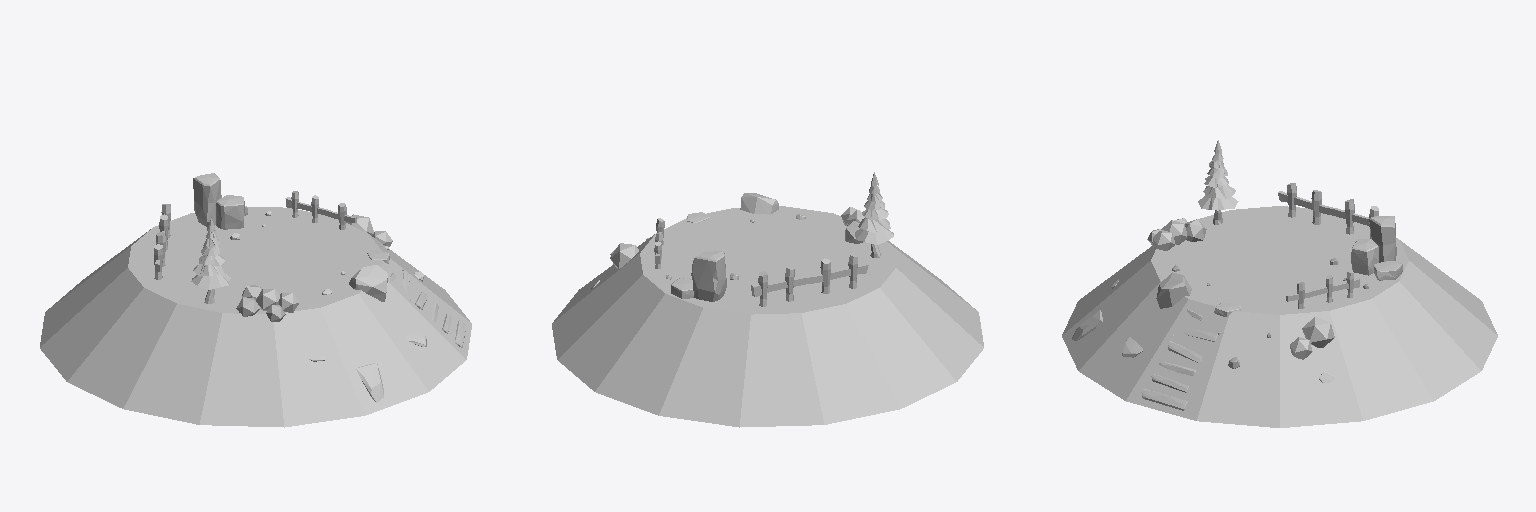
File: project landscape2.obj
3 renders of one model, left to right at view 1: azimuth 30°, elevation 25°; view 2: azimuth 150°, elevation 25°; view 3: azimuth 270°, elevation 25°, orthographic.
Visible parts, largest first — view 1: Cylinder; view 2: Cylinder; view 3: Cylinder.
Boxes of the visible parts, <box> form: Cylinder: <box>40,173,471,427</box>; Cylinder: <box>552,172,983,427</box>; Cylinder: <box>1062,140,1497,427</box>.
Bounding box in the file's own units: 5 × 2.02 × 5.